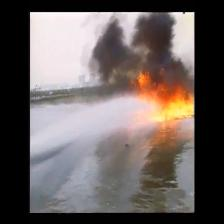fire: (146, 88, 194, 115)
smoke: (135, 16, 174, 60), (94, 34, 134, 76)
